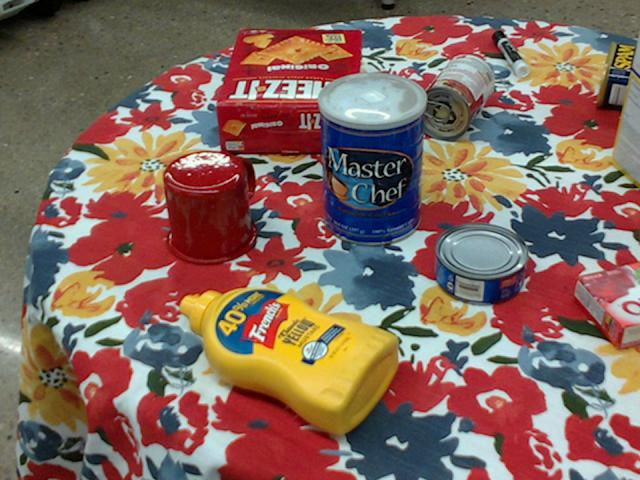cracker_box: (216, 28, 364, 153)
gelatin_box: (576, 263, 639, 348)
large_marker: (494, 30, 530, 76)
master_chef_can: (317, 71, 426, 246)
mug: (162, 149, 258, 265)
mustard_bottle: (179, 286, 401, 434)
potted_meat_can: (596, 39, 639, 109)
sugar_box: (611, 39, 639, 188)
tomato_soup_can: (416, 52, 495, 139)
tuna_fish_can: (436, 223, 531, 305)
